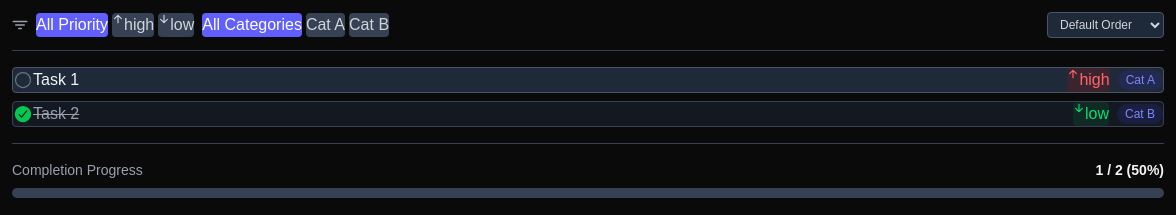
Test: Complex Widgets › InteractiveChecklist › filters by priority
Click the button "high": [133, 25] box [112,13,154,37]
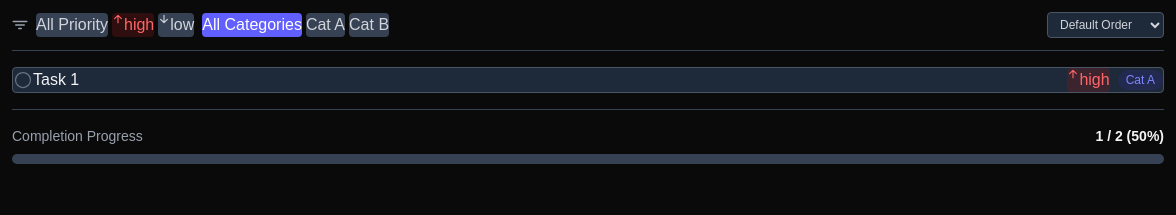
Expected: the text "Task 1" is shown, [33,68,79,92]
Expected: the text "Task 2" is gone
